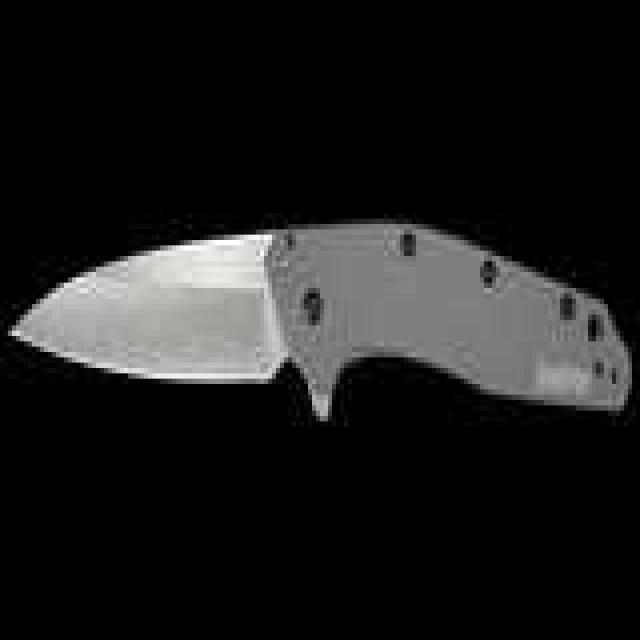knife: (3, 236, 640, 504)
